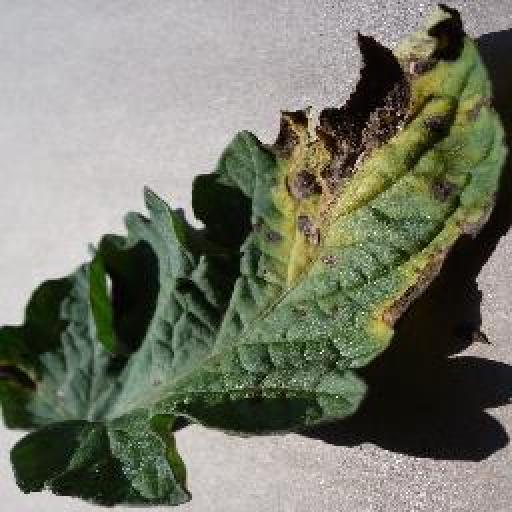Early Blight: (0, 2, 508, 512)
